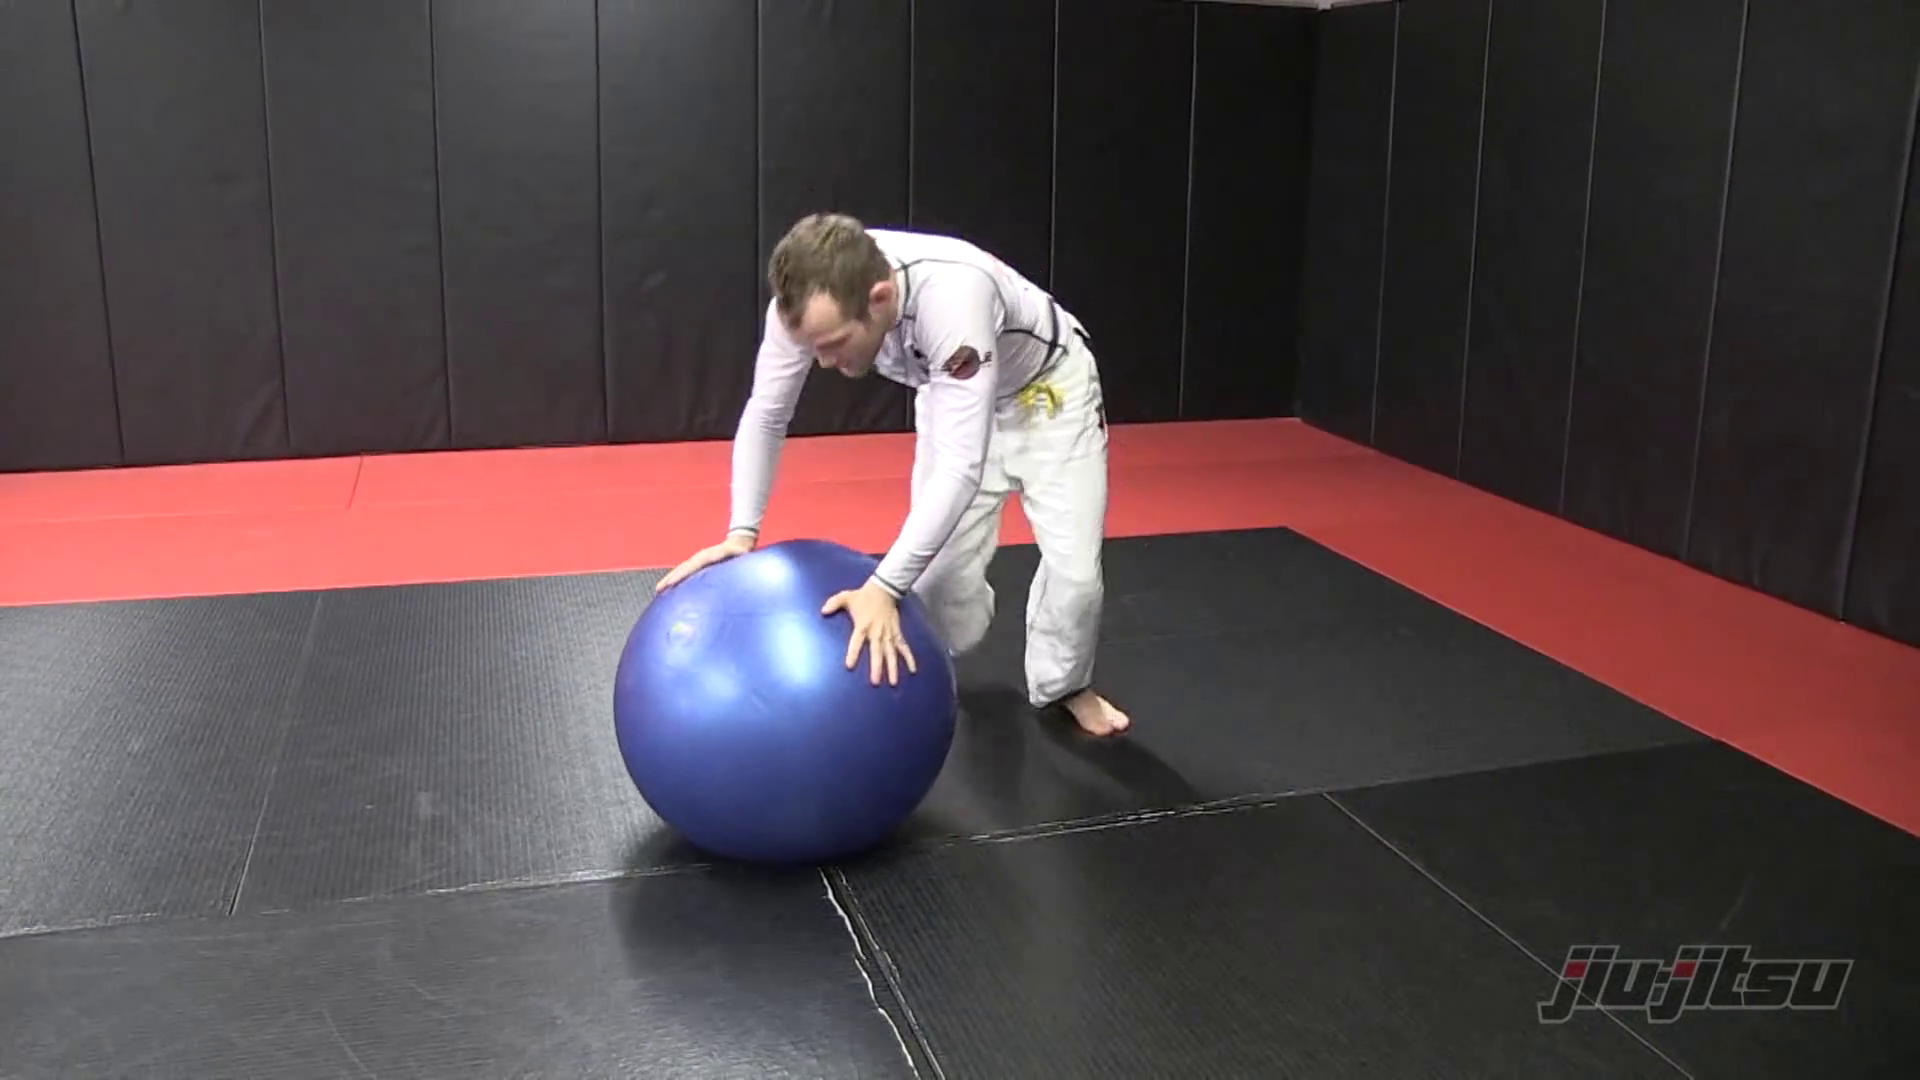yogaball: (595, 531, 973, 878)
